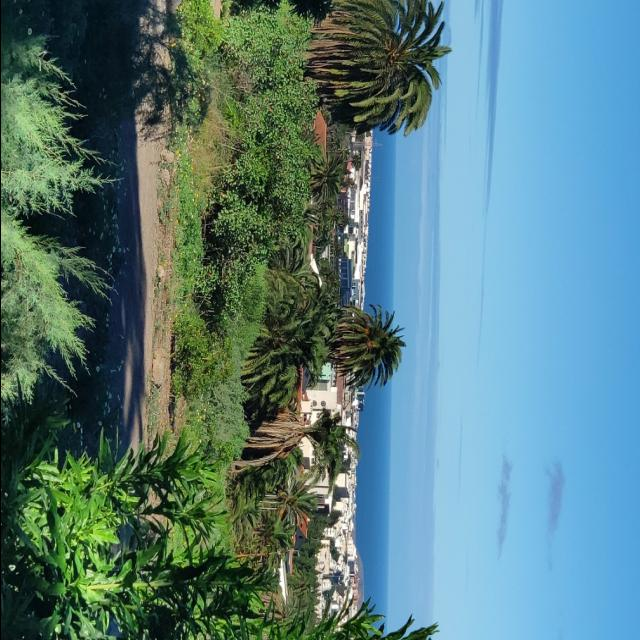Palm-Trees: (302, 0, 452, 138), (325, 306, 403, 386)
